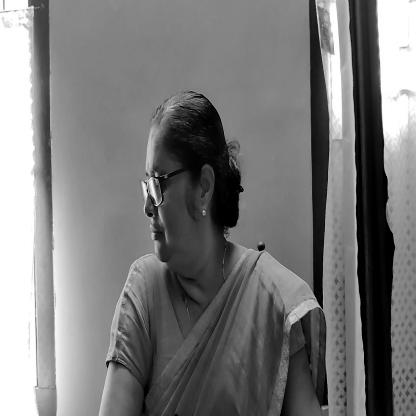Distracted: (142, 96, 246, 280)
